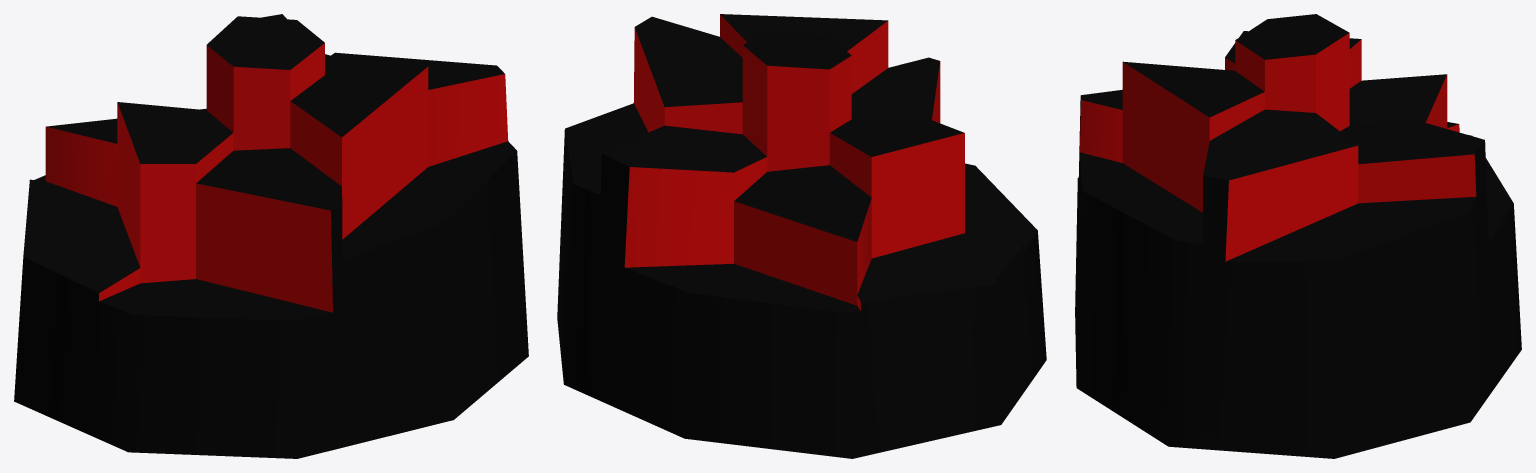
The model's file is iron_rock_v3.glb.
The picture shows the model from 3 angles, left to right: view 1: azimuth 30°, elevation 25°; view 2: azimuth 150°, elevation 25°; view 3: azimuth 270°, elevation 25°; orthographic projection. The views are drawn at different scales.
Parts seen in each view (by area): view 1: Chunk_K, Chunk_J, Chunk_E, Chunk_I, Chunk_F, Chunk_D, Body_Core, Chunk_A, Chunk_C; view 2: Chunk_H, Chunk_I, Chunk_B, Chunk_C, Chunk_D, Body_Core, Chunk_G, Chunk_A, Chunk_J, Chunk_F, Chunk_E; view 3: Chunk_G, Chunk_K, Chunk_A, Chunk_F, Chunk_B, Body_Core, Chunk_H, Chunk_C, Chunk_E, Chunk_D.
Part boxes in pixels (x1,y1,x2,y2): Chunk_K: [342, 141, 528, 447]; Chunk_J: [93, 279, 335, 458]; Chunk_E: [196, 148, 342, 449]; Chunk_I: [14, 179, 140, 436]; Chunk_F: [290, 66, 428, 239]; Chunk_D: [117, 102, 233, 283]; Body_Core: [206, 16, 324, 150]; Chunk_A: [325, 52, 508, 166]; Chunk_C: [45, 108, 206, 206]; Chunk_H: [617, 263, 863, 458]; Chunk_I: [857, 233, 1032, 456]; Chunk_B: [596, 125, 767, 408]; Chunk_C: [734, 165, 871, 305]; Chunk_D: [829, 119, 964, 258]; Body_Core: [742, 30, 851, 171]; Chunk_G: [557, 103, 648, 398]; Chunk_A: [633, 16, 742, 134]; Chunk_J: [965, 163, 1046, 379]; Chunk_F: [720, 14, 888, 93]; Chunk_E: [851, 57, 940, 122]; Chunk_G: [1217, 196, 1484, 458]; Chunk_K: [1075, 152, 1202, 449]; Chunk_A: [1202, 109, 1358, 450]; Chunk_F: [1122, 61, 1264, 212]; Chunk_B: [1340, 119, 1493, 402]; Body_Core: [1235, 14, 1349, 131]; Chunk_H: [1469, 135, 1521, 389]; Chunk_C: [1349, 74, 1447, 128]; Chunk_E: [1075, 89, 1122, 333]; Chunk_D: [1225, 31, 1361, 88].
Size of the model in its own units: 2.64 by 1.83 by 2.26.
